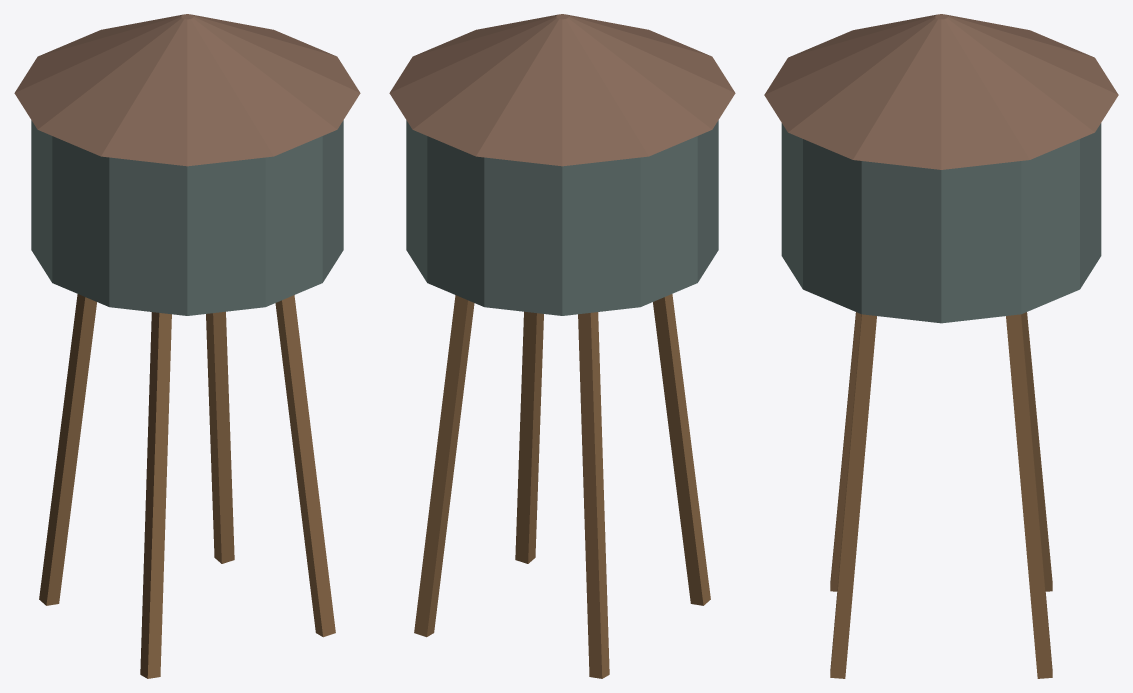
Rendered from arizona-water-tower_lod1.glb.
The picture shows the model from 3 angles, left to right: view 1: azimuth 30°, elevation 25°; view 2: azimuth 150°, elevation 25°; view 3: azimuth 270°, elevation 25°; orthographic projection. The views are drawn at different scales.
Visible parts, largest first — view 1: RF_AZ_Tower_Tank, RF_AZ_Tower_Roof, RF_AZ_Tower_Leg, RF_AZ_Tower_Leg.002, RF_AZ_Tower_Leg.001, RF_AZ_Tower_Leg.003; view 2: RF_AZ_Tower_Tank, RF_AZ_Tower_Roof, RF_AZ_Tower_Leg.001, RF_AZ_Tower_Leg.003, RF_AZ_Tower_Leg, RF_AZ_Tower_Leg.002; view 3: RF_AZ_Tower_Tank, RF_AZ_Tower_Roof, RF_AZ_Tower_Leg.002, RF_AZ_Tower_Leg.003, RF_AZ_Tower_Leg, RF_AZ_Tower_Leg.001.
Boxes of the visible parts, box(x1,y1,x2,y2) form: RF_AZ_Tower_Tank: box(31, 120, 343, 315); RF_AZ_Tower_Roof: box(14, 14, 360, 166); RF_AZ_Tower_Leg: box(140, 312, 171, 678); RF_AZ_Tower_Leg.002: box(275, 295, 335, 637); RF_AZ_Tower_Leg.001: box(39, 294, 96, 605); RF_AZ_Tower_Leg.003: box(206, 311, 234, 563); RF_AZ_Tower_Tank: box(406, 120, 718, 315); RF_AZ_Tower_Roof: box(389, 14, 735, 166); RF_AZ_Tower_Leg.001: box(578, 312, 609, 678); RF_AZ_Tower_Leg.003: box(414, 295, 474, 637); RF_AZ_Tower_Leg: box(653, 294, 710, 605); RF_AZ_Tower_Leg.002: box(515, 311, 543, 563); RF_AZ_Tower_Tank: box(781, 123, 1101, 323); RF_AZ_Tower_Roof: box(764, 14, 1118, 169); RF_AZ_Tower_Leg.002: box(830, 314, 876, 678); RF_AZ_Tower_Leg.003: box(1006, 314, 1052, 678); RF_AZ_Tower_Leg: box(830, 312, 861, 591); RF_AZ_Tower_Leg.001: box(1021, 312, 1052, 591).
Size of the model in its own units: 8.2 by 15.73 by 8.2.
